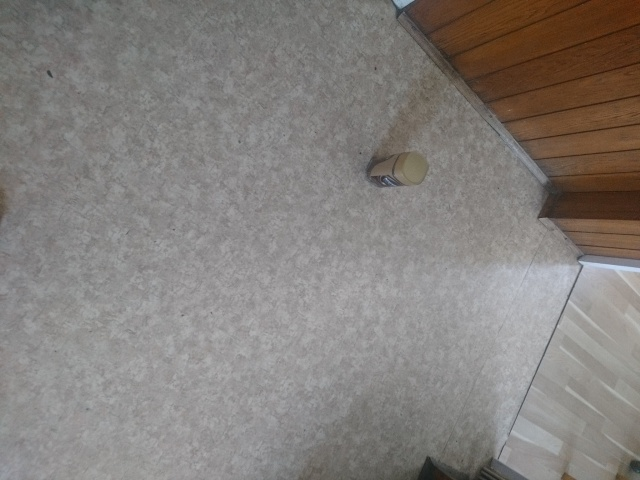Nescafe Gold 225g: (365, 150, 431, 189)
